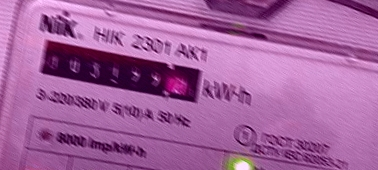0: (45, 52, 59, 72), (68, 54, 80, 74)
1: (109, 59, 120, 79)
3: (88, 60, 99, 80)
6: (170, 81, 181, 98)
9: (149, 71, 160, 89), (129, 65, 139, 84)
screen: (31, 36, 209, 111)
